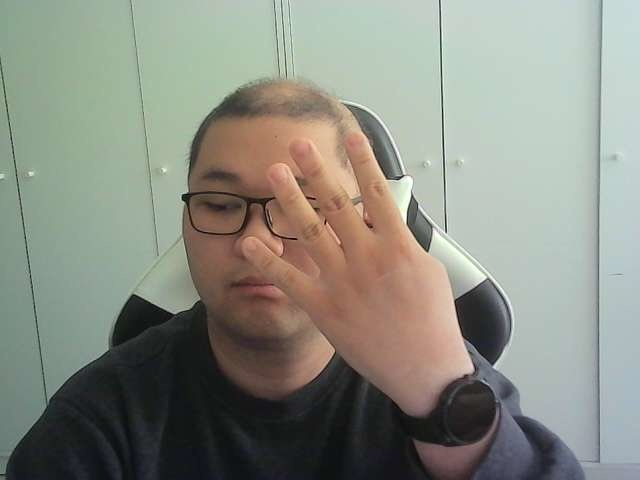Four: (241, 131, 457, 382)
